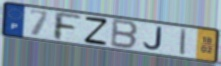7: (28, 8, 50, 37)
B: (109, 17, 140, 51)
F: (53, 10, 84, 42)
I: (178, 27, 188, 57)
J: (142, 26, 163, 52)
Z: (83, 16, 109, 46)
